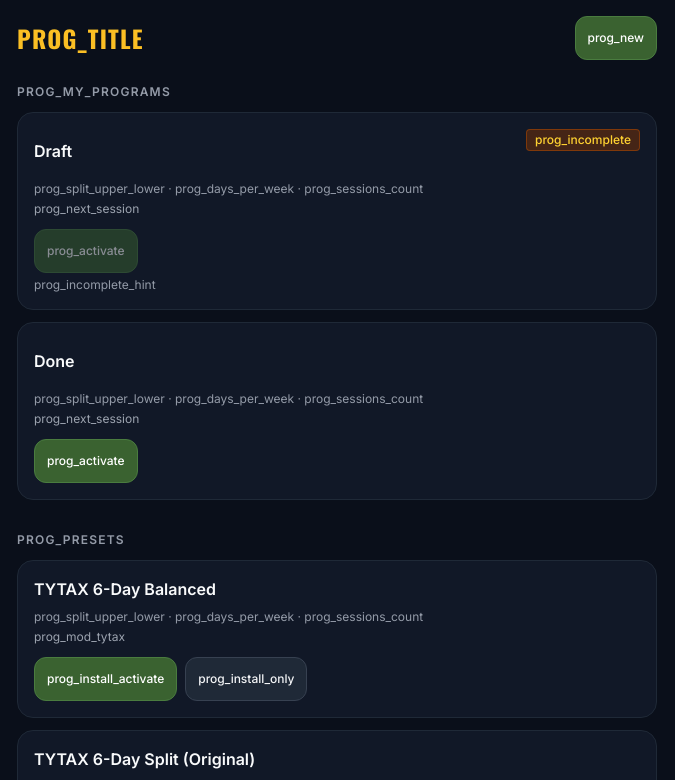
Scenario: ProgramsPage › activates a complete program, gates an incomplete one, and shows the next session
expect the link "Draft" is shown: met, box [34, 141, 72, 161]
expect the button "prog_activate" below "Draft" is disabled: met, box [34, 229, 138, 273]
Click the button "prog_activate" below "Done" at coordinates (86, 461), box [34, 439, 138, 483]
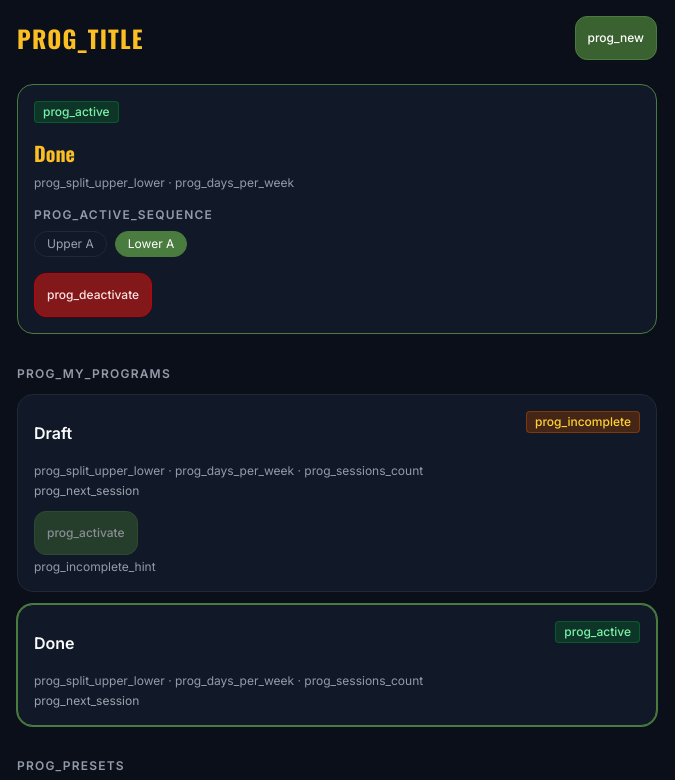
expect the element with test id "active-program" shows "Done": met, box [34, 131, 75, 175]
